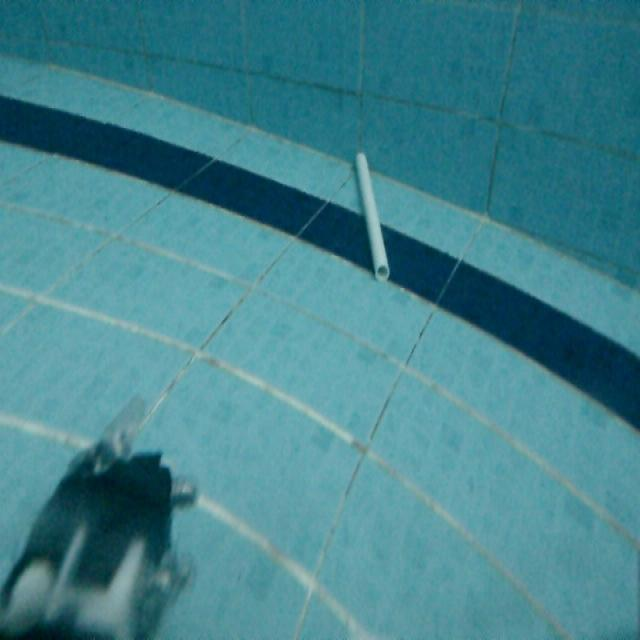Cube: (351, 145, 393, 283)
